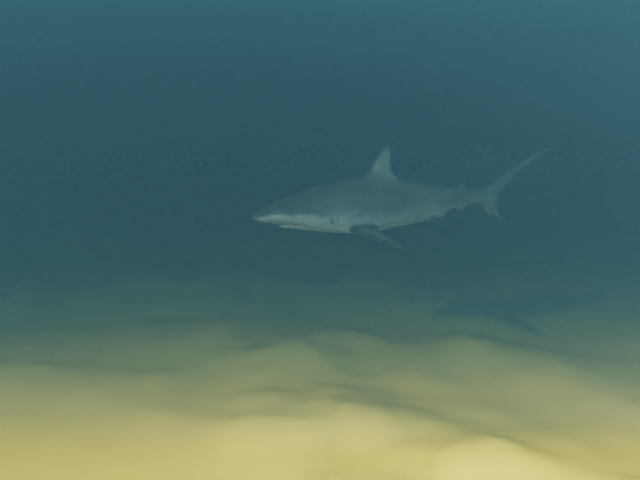Carribean Shark.001: (251, 143, 549, 249)
